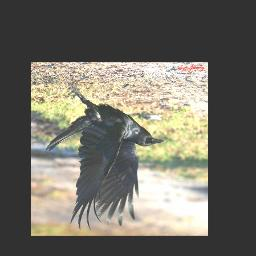Crow: (45, 80, 166, 232)
